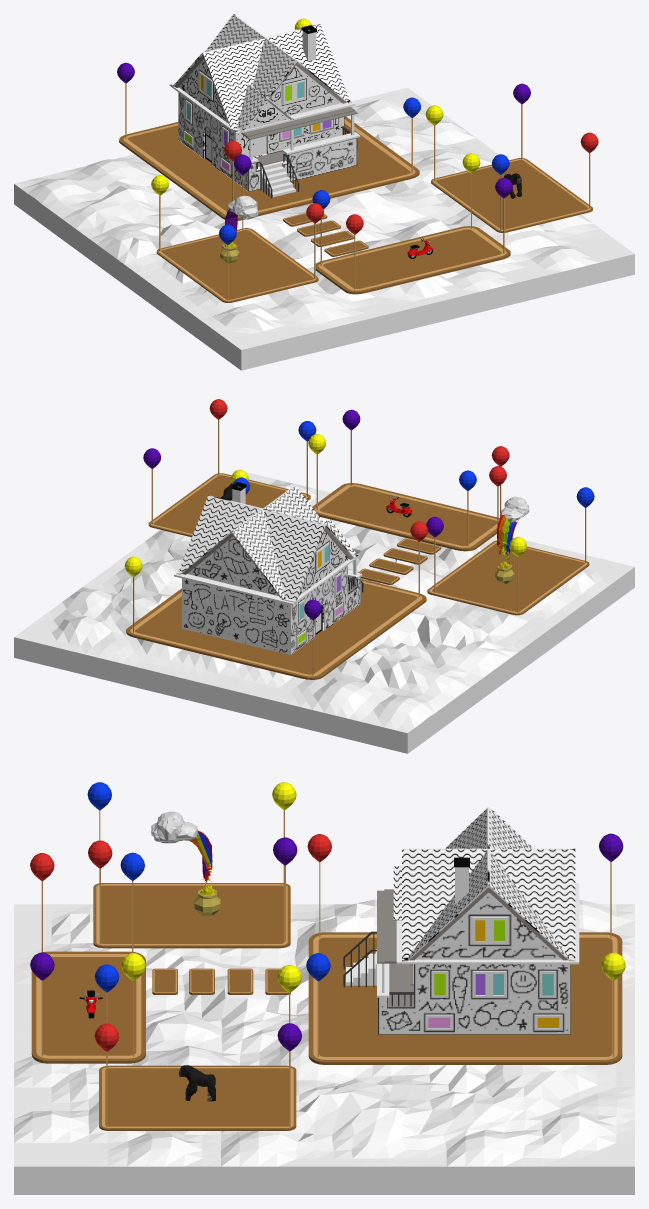
The picture shows the model from 3 angles, top to bottom: view 1: azimuth 30°, elevation 25°; view 2: azimuth 150°, elevation 25°; view 3: azimuth 270°, elevation 25°; orthographic projection. The views are drawn at different scales.
Visible parts, largest first — view 1: Cube.013, Cube.879, OBJRANDOM_RAINBOW; view 2: Cube.013, Cube.879, OBJRANDOM_RAINBOW; view 3: Cube.013, Cube.879, OBJRANDOM_RAINBOW, ANIMAL_GORILA.
Part boxes in pixels (box(x1,y1,x2,y2)): Cube.013: box(14, 18, 634, 370); Cube.879: box(169, 14, 360, 198); OBJRANDOM_RAINBOW: box(220, 195, 258, 263); Cube.013: box(14, 399, 634, 753); Cube.879: box(174, 482, 363, 655); OBJRANDOM_RAINBOW: box(494, 496, 529, 583); Cube.013: box(14, 782, 634, 1194); Cube.879: box(343, 807, 579, 1034); OBJRANDOM_RAINBOW: box(151, 811, 220, 915); ANIMAL_GORILA: box(178, 1065, 215, 1101).
Bounding box in the file's own units: 4000 × 1638 × 4000.
39 materials, 9 textured.
